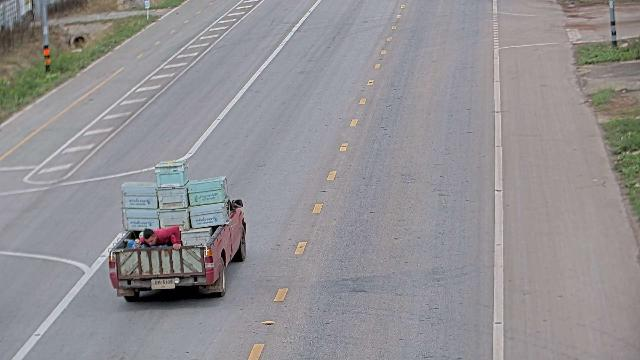pickup-truck: (107, 159, 247, 301)
